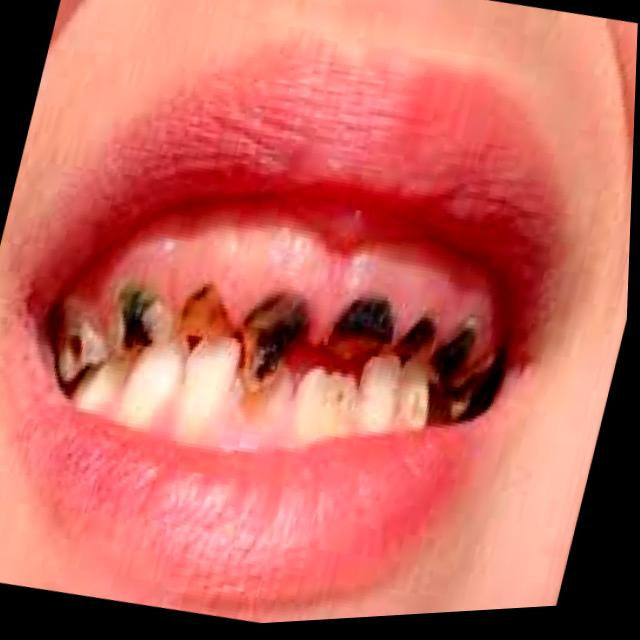cariess: (243, 291, 475, 386), (60, 309, 108, 378), (180, 284, 235, 343), (123, 290, 153, 347)
